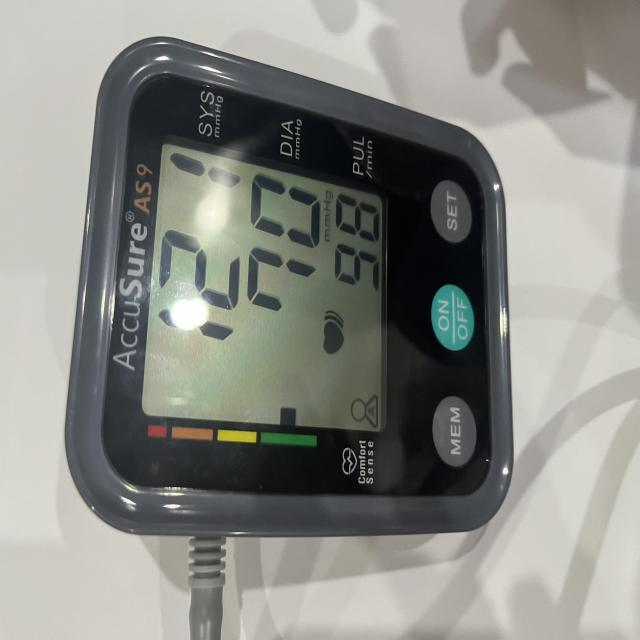bp: (62, 37, 515, 545)
